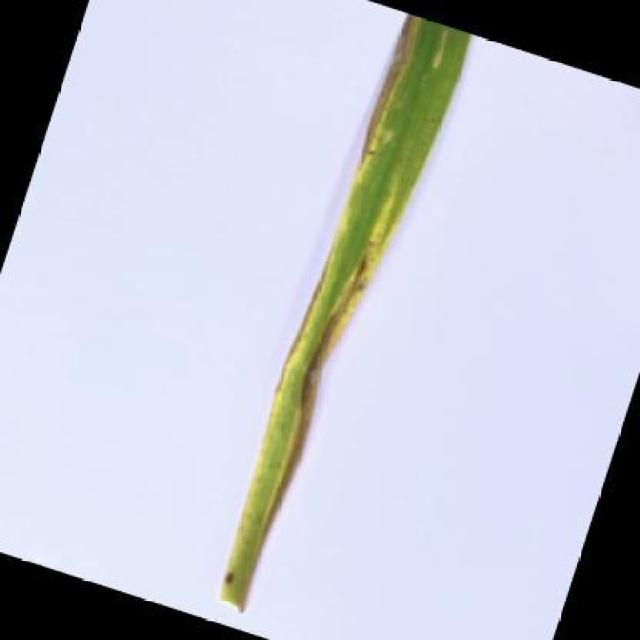Leaf_Blast: (415, 104, 440, 130)
Rice False Smut: (206, 1, 472, 632)
